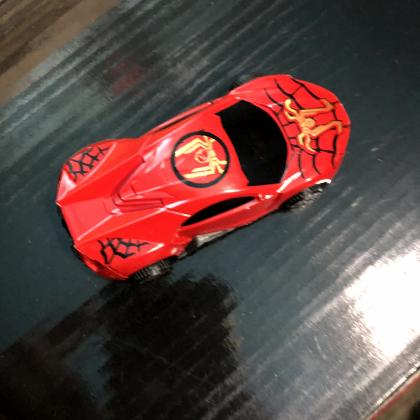Car: (55, 75, 351, 284)
